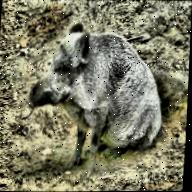boar: (19, 13, 175, 162)
